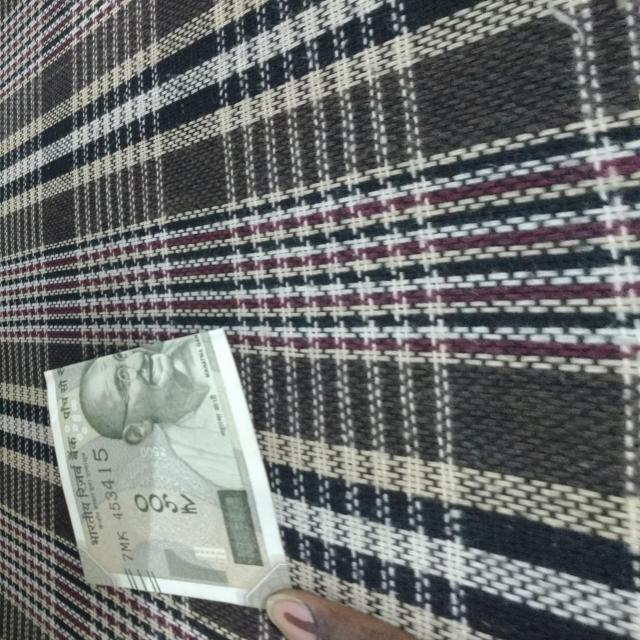Currency: (36, 326, 272, 602)
